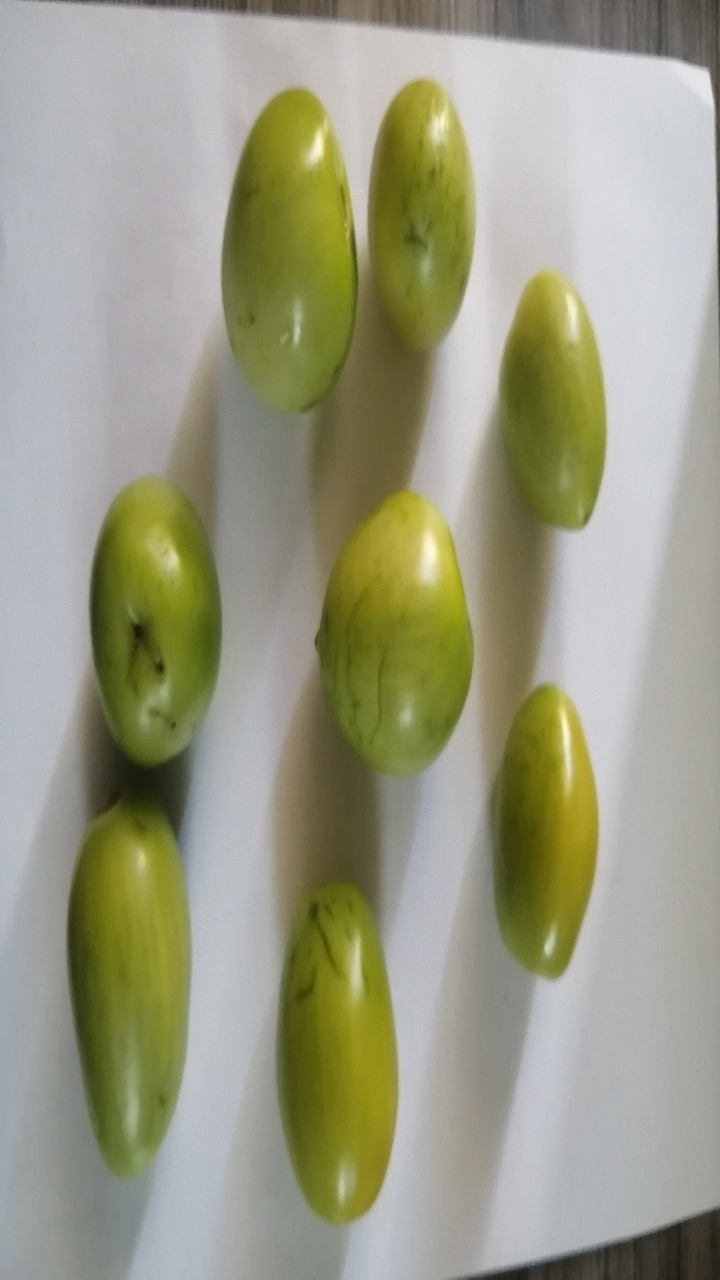tomateVerde: (28, 783, 208, 1197), (188, 57, 374, 437), (264, 871, 440, 1246), (297, 483, 495, 812), (48, 452, 240, 788), (354, 49, 488, 392), (500, 669, 628, 995), (494, 254, 631, 552)
